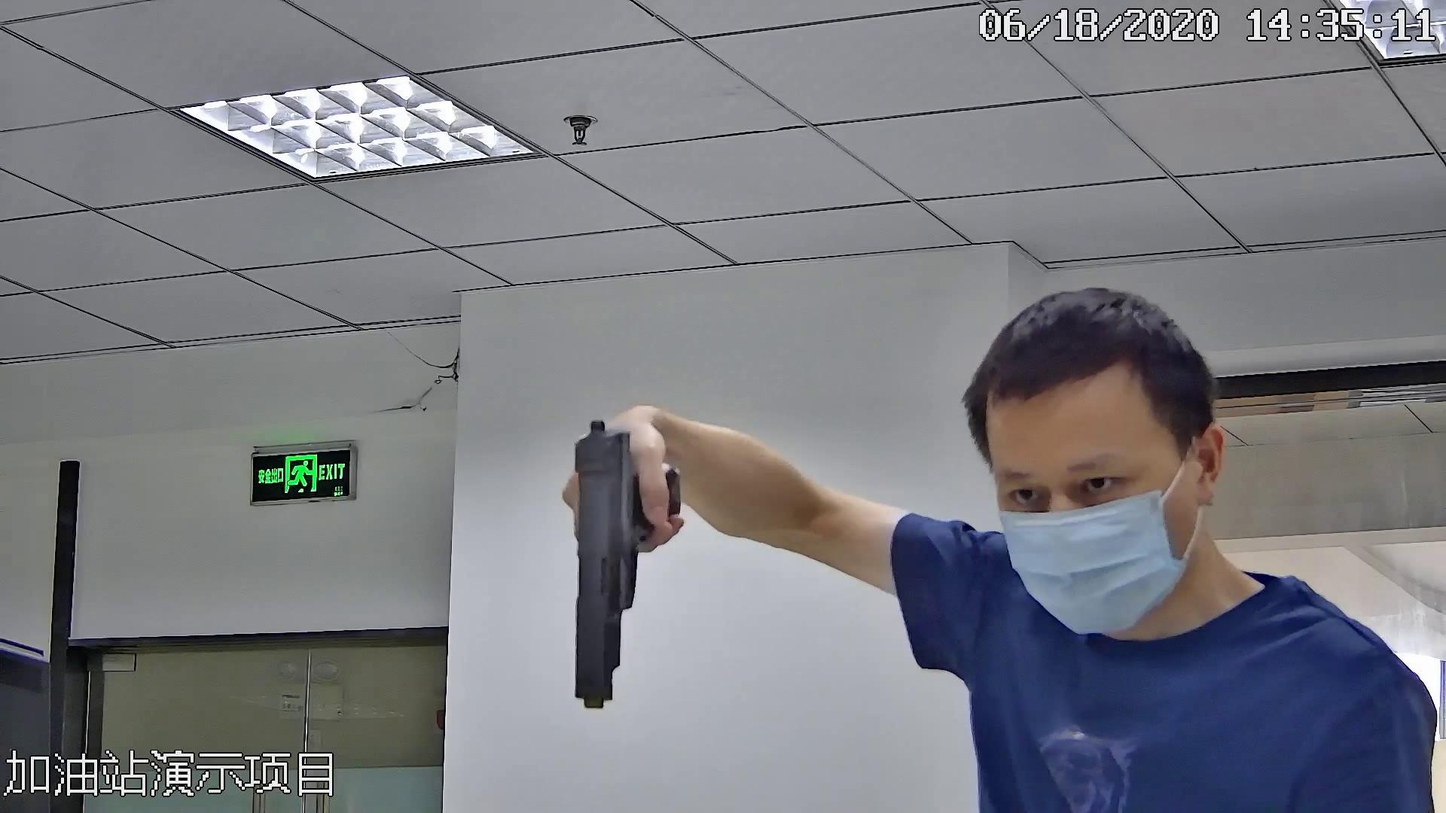gun: (537, 415, 685, 695)
